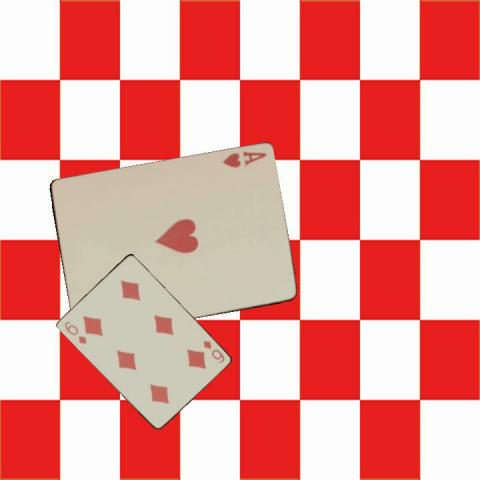6d: (61, 318, 88, 345), (200, 337, 225, 365)
Ah: (219, 148, 268, 169)
